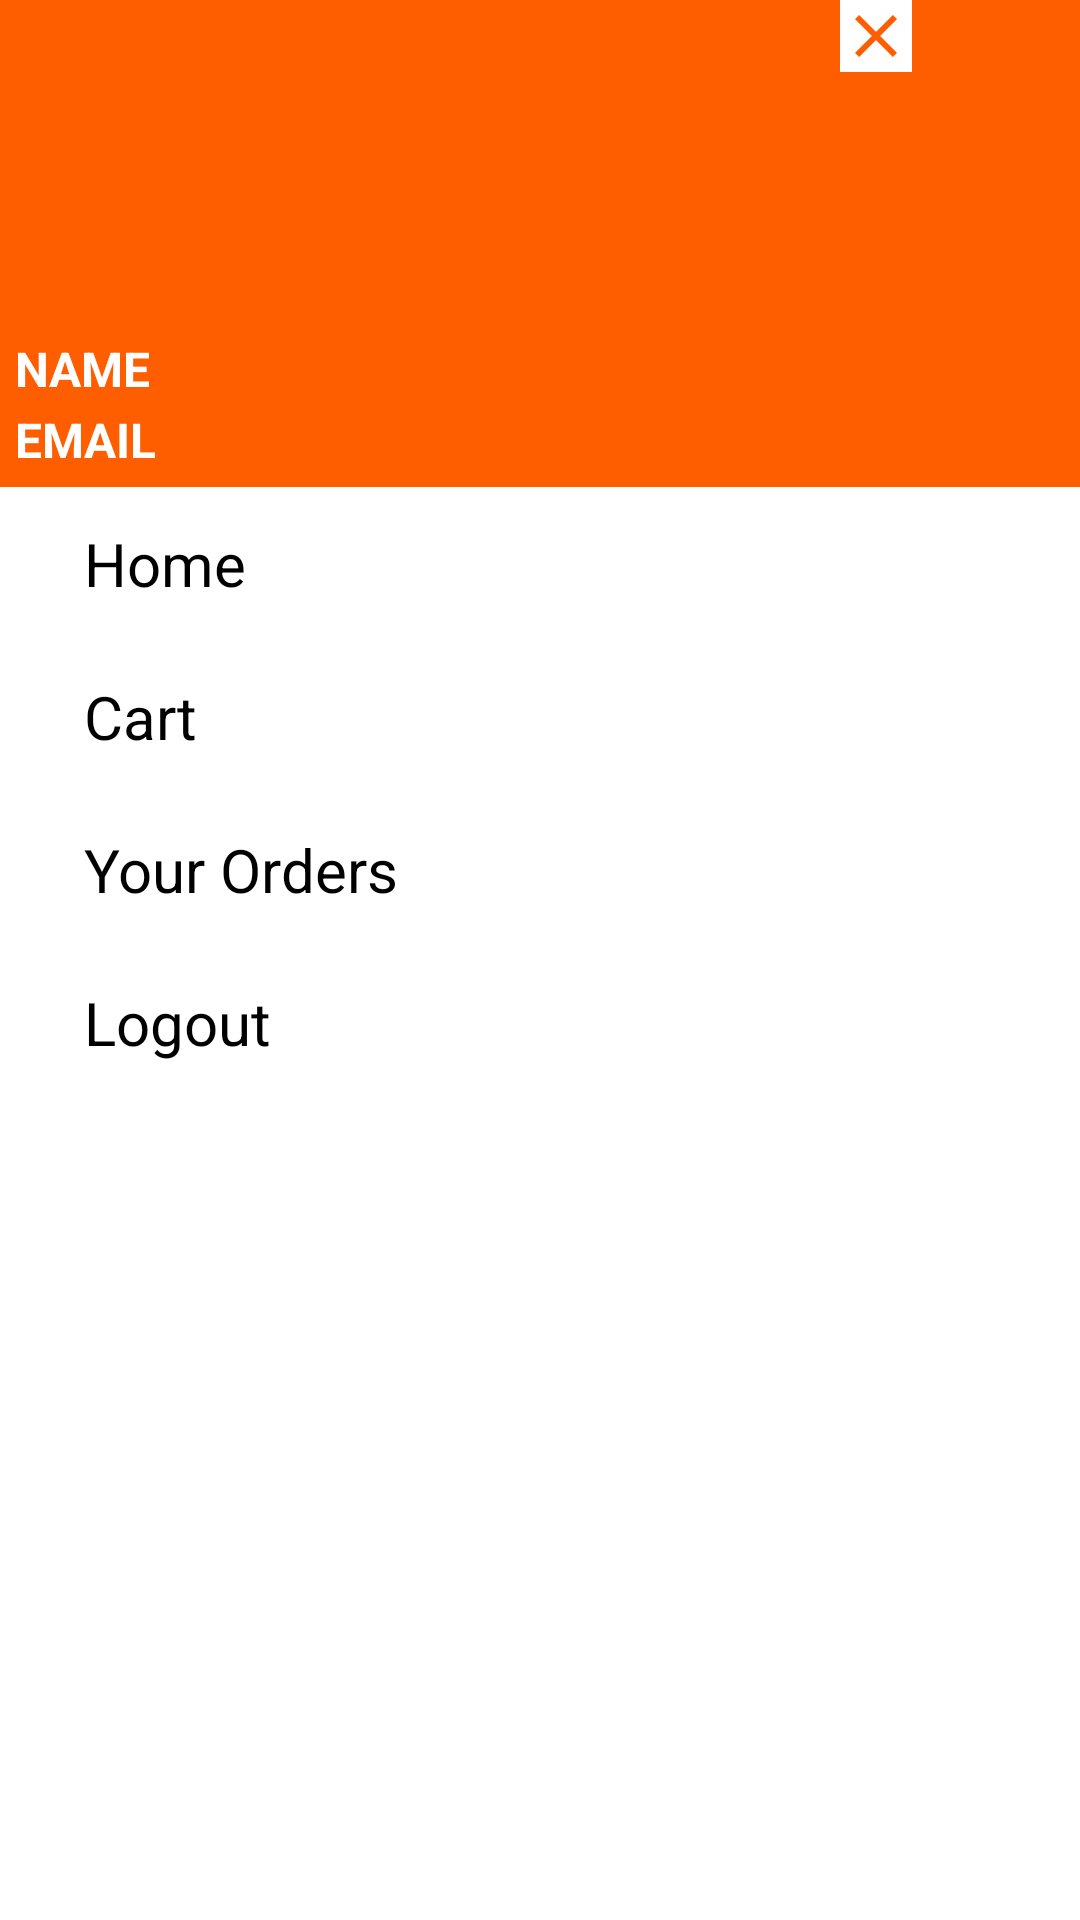

Icon click points for this 1080 × 1920 phone screenshot, format (x=x, y=y):
close: (x=876, y=36)
